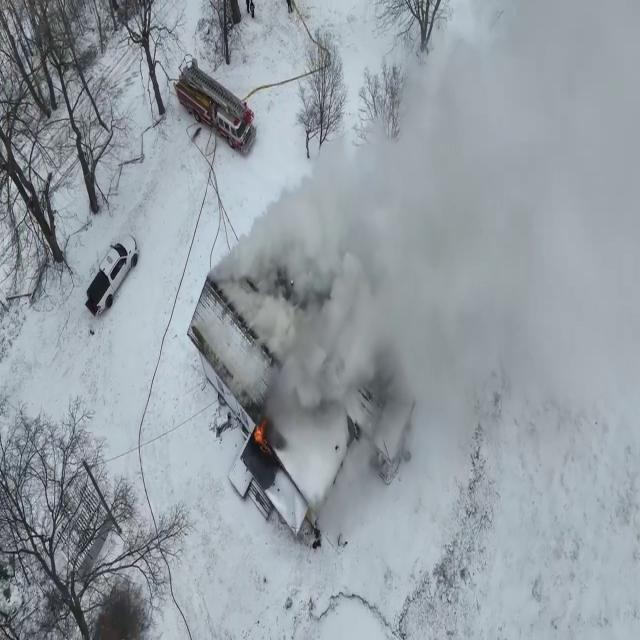Smoke: (225, 0, 640, 626)
